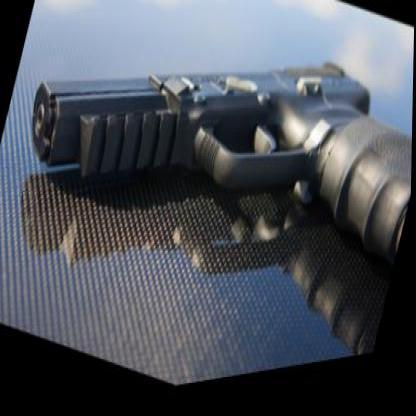pistol: (6, 0, 415, 395)
